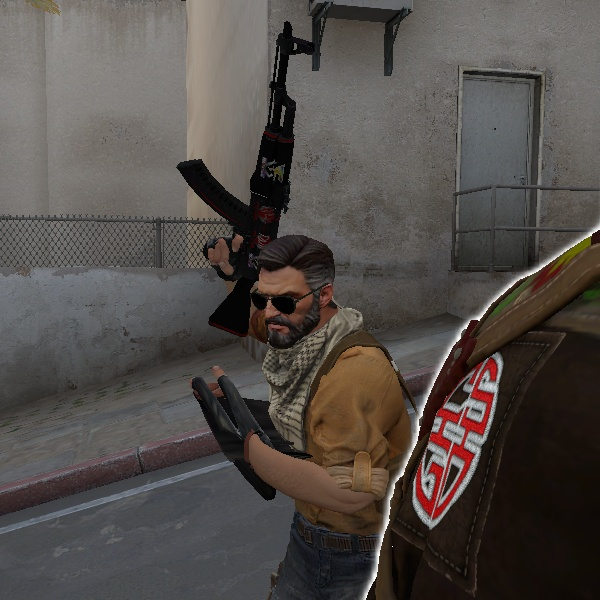t_body: (136, 210, 452, 600)
t_head: (230, 228, 367, 355)
